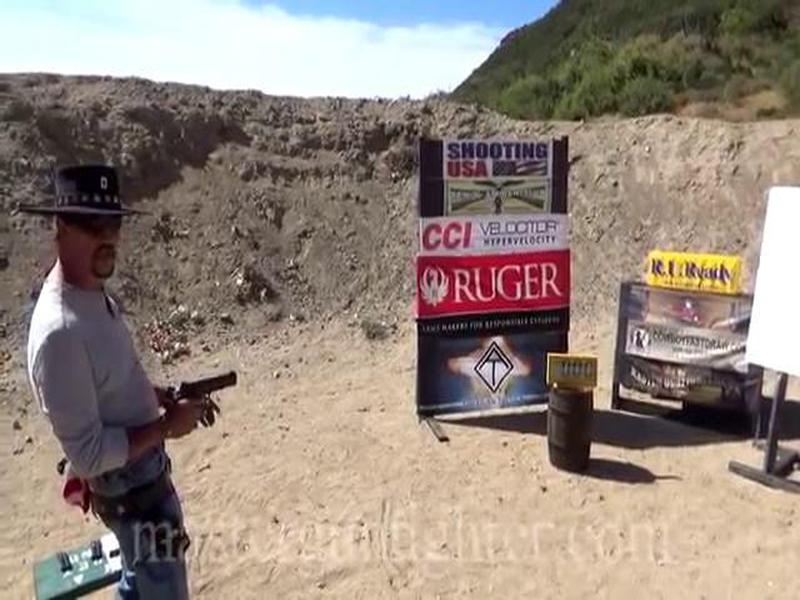Pistola: (171, 364, 245, 451)
